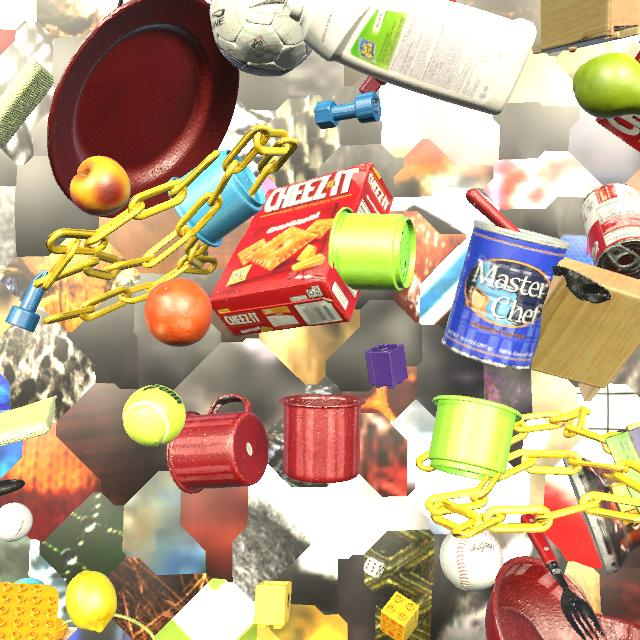ycb_002_master_chef_can: (442, 220, 570, 370)
ycb_003_cracker_box: (209, 162, 393, 336), (596, 51, 640, 152)
ycb_005_tomato_soup_can: (581, 183, 640, 280)
ycb_014_lemon: (65, 570, 117, 633)
ycb_015_peach: (70, 156, 131, 216)
ycb_016_pear: (572, 52, 640, 119)
ycb_017_orange: (144, 278, 212, 347)
